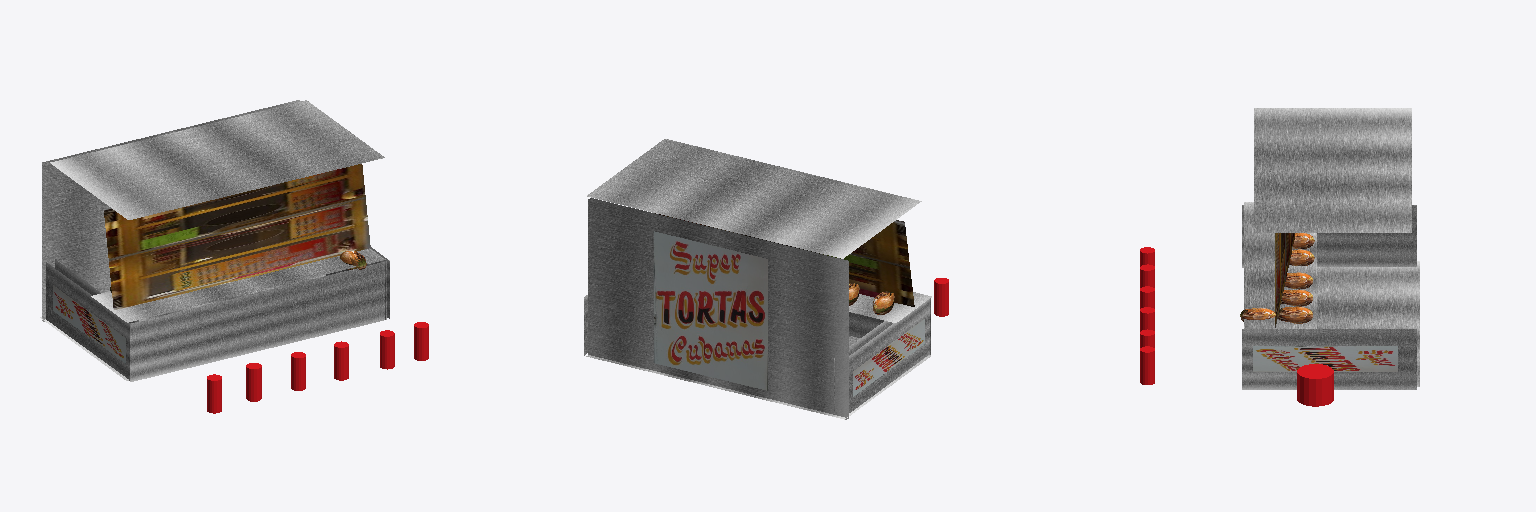
The picture shows the model from 3 angles: view 1: azimuth 30°, elevation 25°; view 2: azimuth 150°, elevation 25°; view 3: azimuth 270°, elevation 25°; orthographic projection.
Parts seen in each view (by area): view 1: Box008, Box003, Box007, Box009, Box005, Box004, Cylinder002, Cylinder003, Cylinder006, Cylinder001, Cylinder005, Cylinder004 (+1 smaller); view 2: Box002, Box003, Box005, Box008, Box004, Box001, Box009, Box007, Cylinder001; view 3: Box003, Box006, Box001, Box004, Box011, Cylinder007, Box008, Cylinder006.
Part boxes in pixels (bbox=[...]): Box008: bbox=[104, 164, 370, 310]; Box003: bbox=[50, 100, 384, 219]; Box007: bbox=[130, 261, 386, 381]; Box009: bbox=[43, 101, 299, 321]; Box005: bbox=[46, 262, 130, 380]; Box004: bbox=[91, 248, 385, 322]; Cylinder002: bbox=[246, 363, 261, 401]; Cylinder003: bbox=[291, 352, 305, 390]; Cylinder006: bbox=[414, 322, 428, 360]; Cylinder001: bbox=[207, 374, 221, 413]; Cylinder005: bbox=[380, 330, 394, 369]; Cylinder004: bbox=[334, 341, 348, 380]; Box002: bbox=[588, 199, 846, 419]; Box003: bbox=[587, 139, 921, 258]; Box005: bbox=[849, 299, 929, 412]; Box008: bbox=[655, 213, 914, 306]; Box004: bbox=[849, 292, 931, 322]; Box001: bbox=[586, 336, 930, 419]; Box009: bbox=[590, 198, 848, 418]; Box007: bbox=[849, 298, 930, 354]; Cylinder001: bbox=[934, 278, 948, 316]; Box003: bbox=[1254, 108, 1411, 232]; Box006: bbox=[1242, 331, 1416, 389]; Box001: bbox=[1317, 261, 1419, 386]; Box004: bbox=[1244, 202, 1316, 328]; Box011: bbox=[1242, 209, 1416, 267]; Cylinder007: bbox=[1297, 364, 1333, 406]; Box008: bbox=[1275, 233, 1294, 327]; Cylinder006: bbox=[1140, 346, 1154, 384].
Bounding box in the file's own units: 86.85 × 45.03 × 71.68.
5 materials, 5 textured.